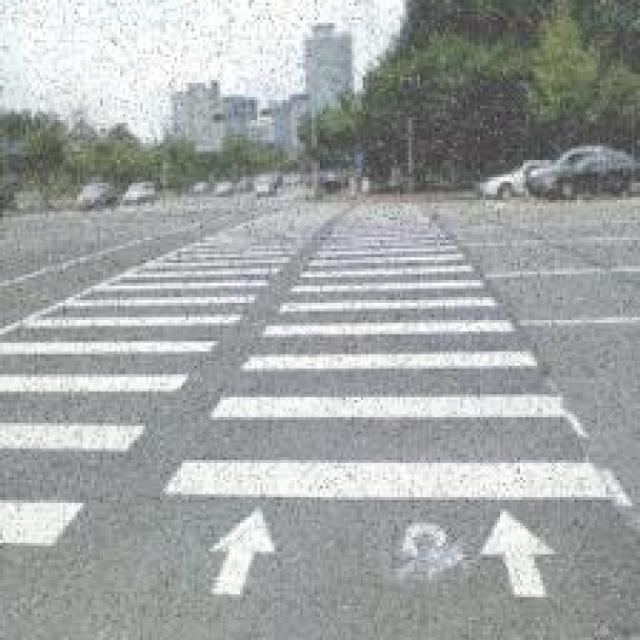zebra: (0, 194, 640, 557)
